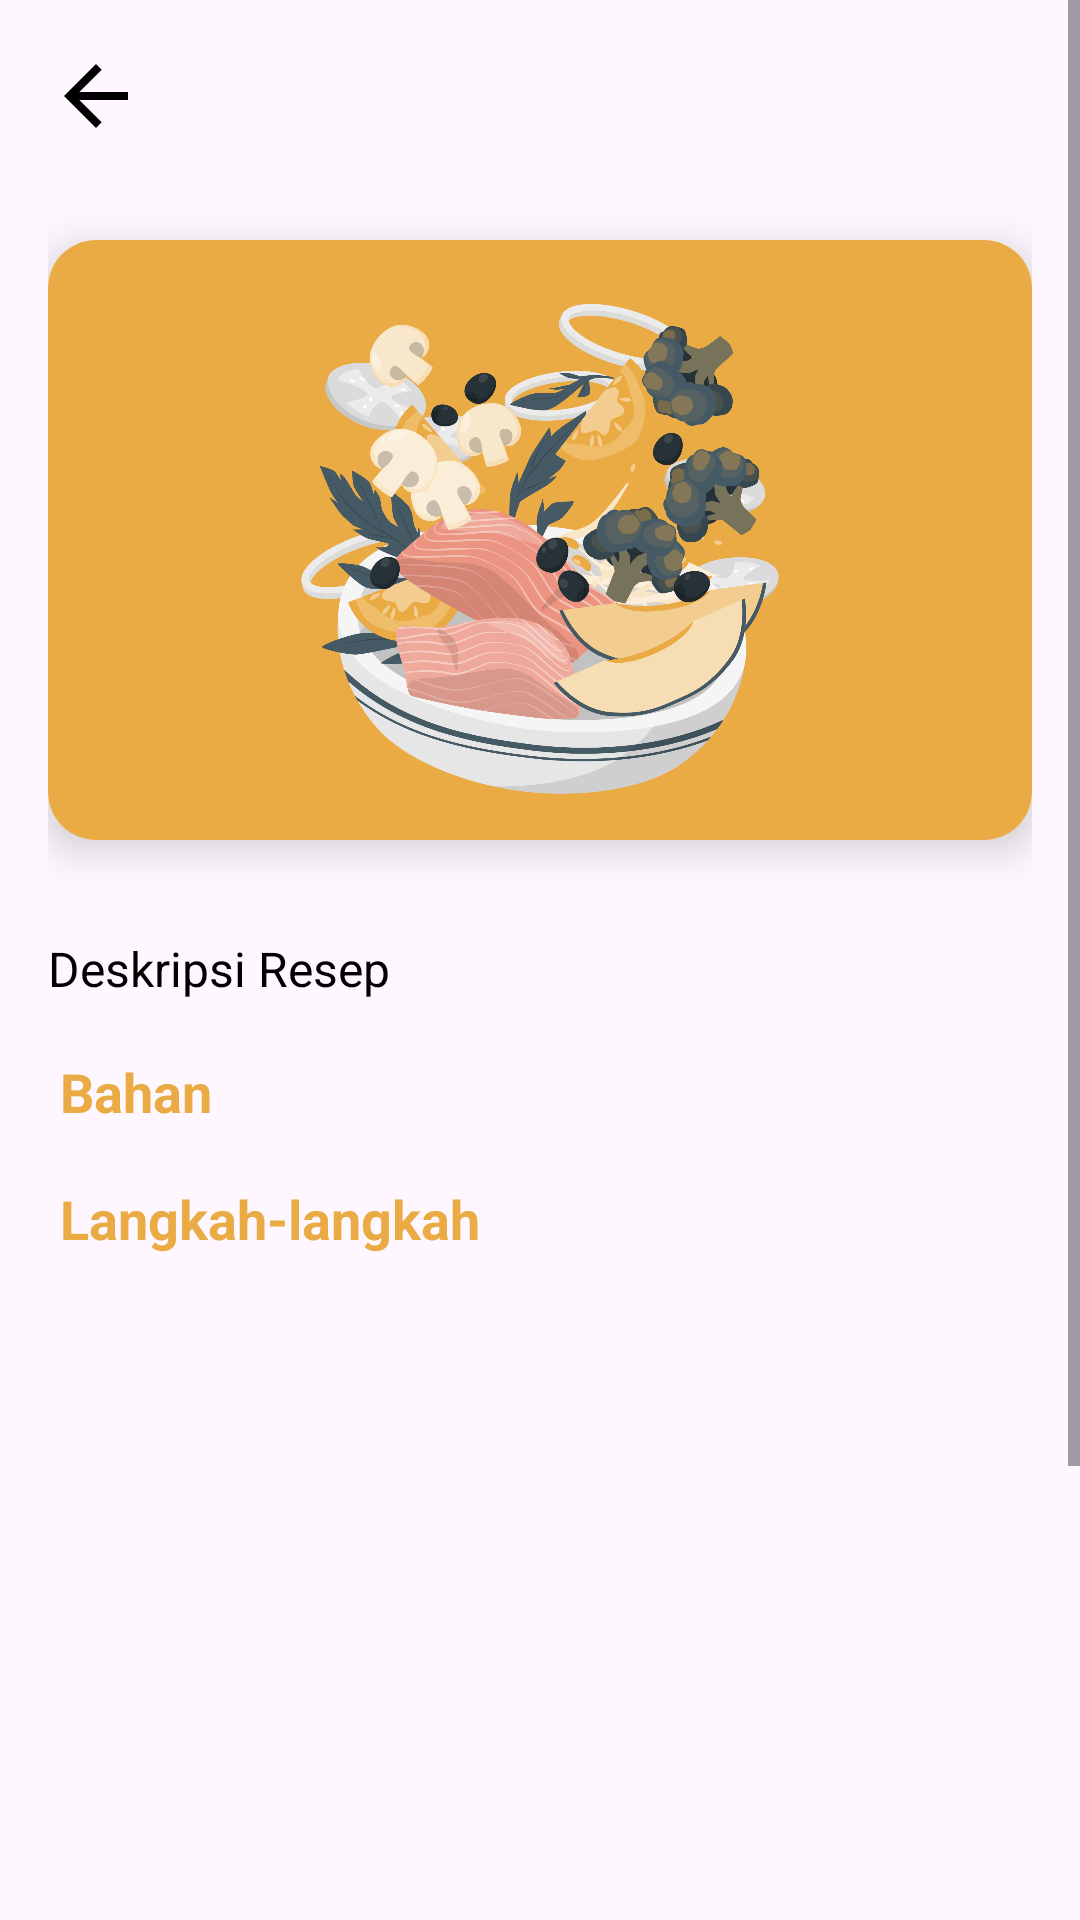

Icon bounding boxes for this 1080px x 1920px phone screenshot, format (x1, y1, x2, y2):
Back Button: (64, 64, 128, 128)
